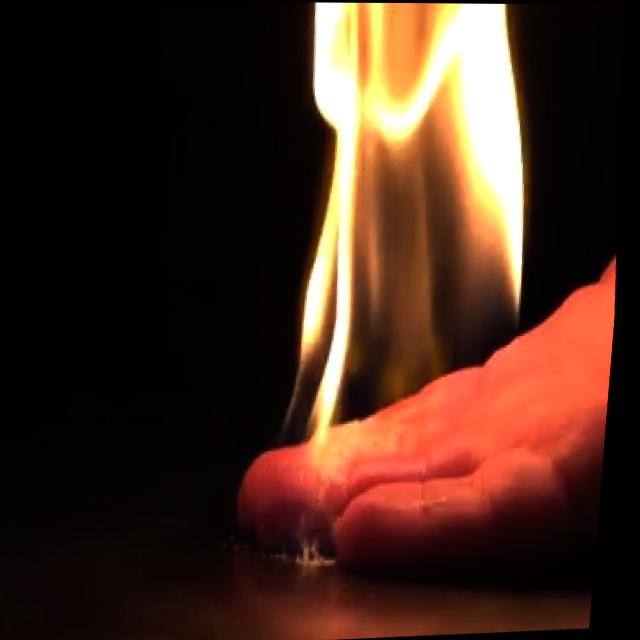helmet: (258, 2, 581, 458)
